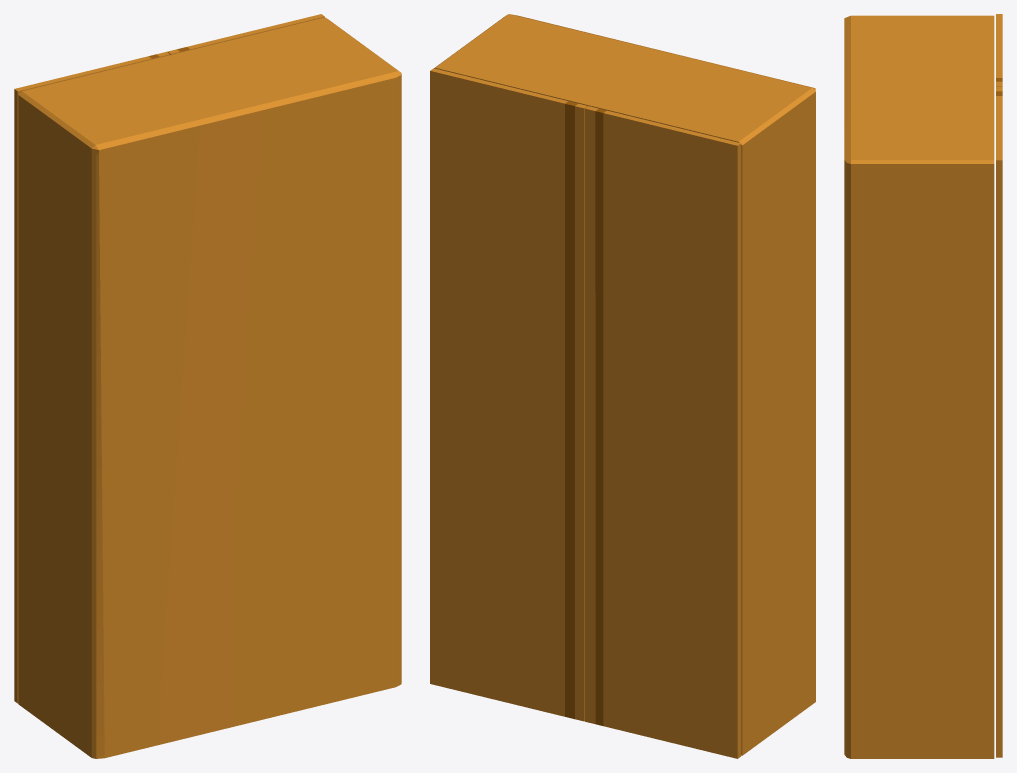
File: Prop_sci_closet_a1.FBX
3 views of the same model, side by side, from view 1: azimuth 30°, elevation 25°; view 2: azimuth 150°, elevation 25°; view 3: azimuth 270°, elevation 25° (orthographic). The views are drawn at different scales.
Visible parts, largest first — view 1: Prop_closet_sci01, Prop_closet_sci03, Prop_closet_sci02; view 2: Prop_closet_sci03, Prop_closet_sci02, Prop_closet_sci01; view 3: Prop_closet_sci01, Prop_closet_sci02, Prop_closet_sci03.
Part boxes in pixels (x1,y1,x2,y2): Prop_closet_sci01: (18, 17, 401, 758); Prop_closet_sci03: (14, 51, 170, 703); Prop_closet_sci02: (167, 14, 324, 54); Prop_closet_sci03: (585, 106, 741, 758); Prop_closet_sci02: (430, 68, 587, 721); Prop_closet_sci01: (434, 14, 815, 755); Prop_closet_sci01: (844, 15, 994, 758); Prop_closet_sci02: (996, 87, 1002, 757); Prop_closet_sci03: (996, 14, 1002, 86).
Bounding box in the file's own units: 38.77 × 73.19 × 17.6.
